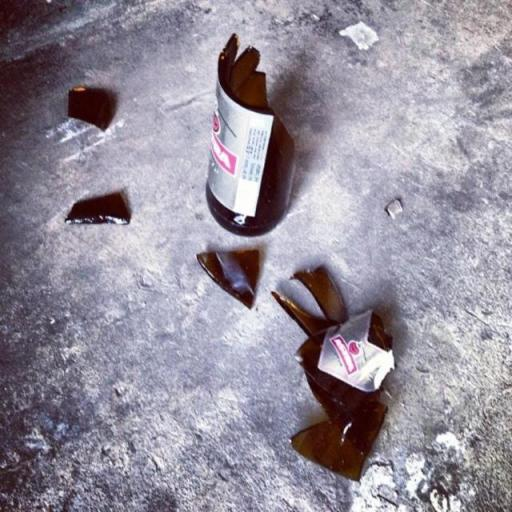glass: (198, 30, 308, 244), (290, 302, 400, 411), (288, 387, 386, 481), (187, 236, 271, 322), (263, 283, 333, 363), (290, 256, 350, 333), (64, 190, 131, 226), (67, 86, 112, 132), (385, 198, 404, 220)
